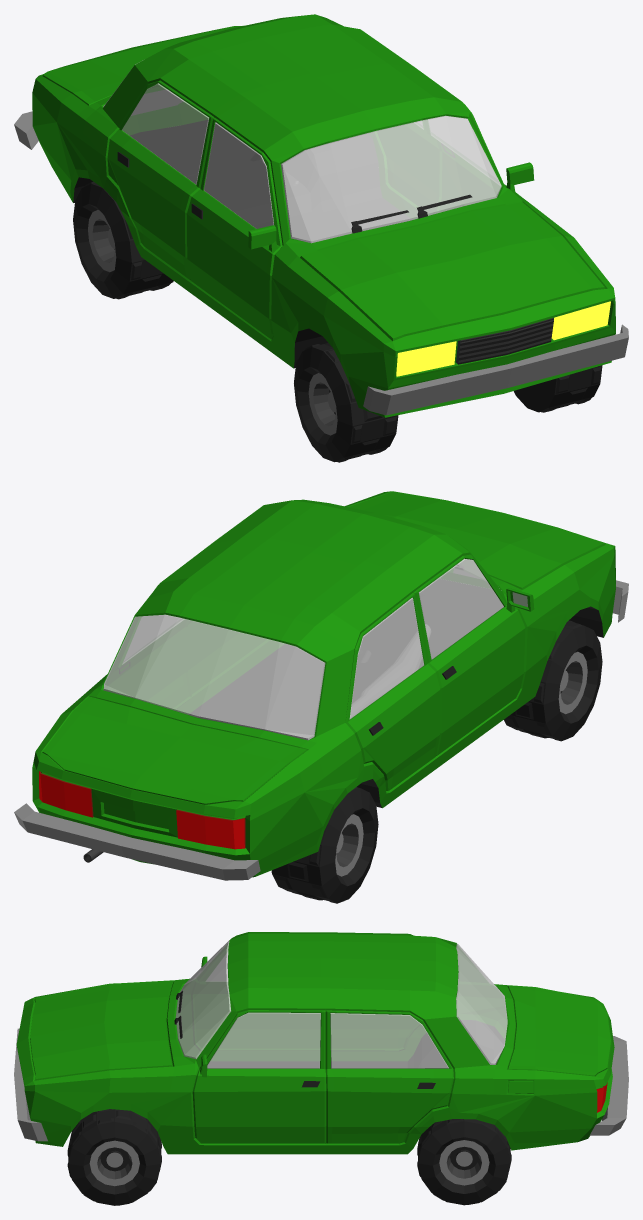
Rendered from GREEN.glb.
3 renders of one model, top to bottom at view 1: azimuth 30°, elevation 25°; view 2: azimuth 150°, elevation 25°; view 3: azimuth 270°, elevation 25°, orthographic. The views are drawn at different scales.
Parts seen in each view (by area): view 1: Car.001; view 2: Car.001; view 3: Car.001.
Part boxes in pixels (x1,y1,x2,y2): Car.001: (14,14,628,462); Car.001: (14,491,628,903); Car.001: (14,932,628,1205).
Size of the model in its own units: 1.79 by 1.54 by 4.29.
Materials: 4 (1 with a texture image).
